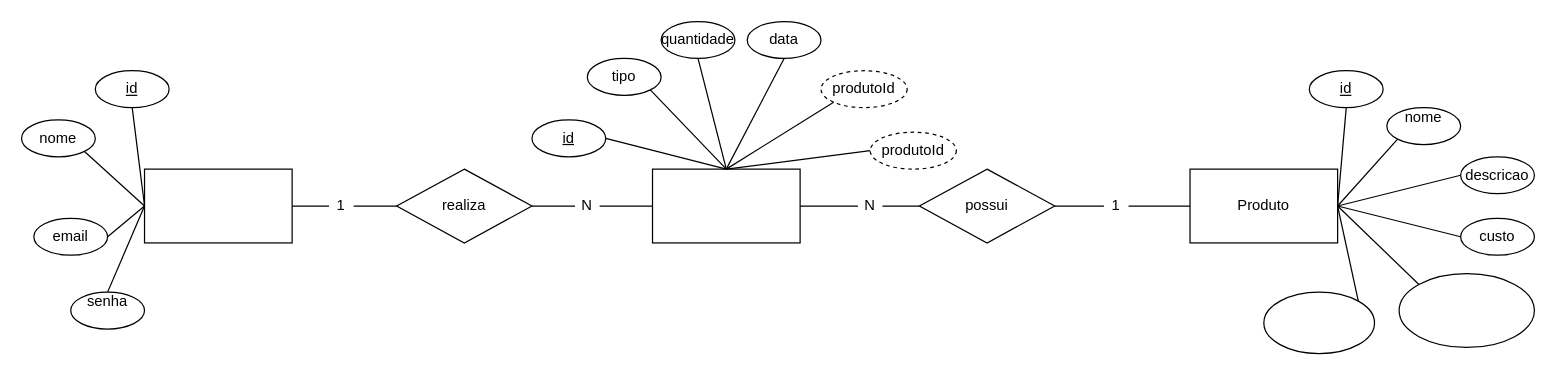
Image size: 1556x375. Some labels were removed from this diagram. Here are the shapes that lost their labels. From the top down, the centre of each, then its label:
At point 217,205: "Usuario".
At point 725,205: "Produção".
At point 1319,322: "estoqueMinimo".
At point 1466,309: "quantidadeEstoque".
